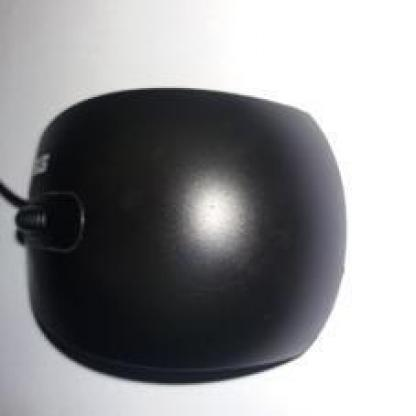mouse: (27, 82, 348, 390)
